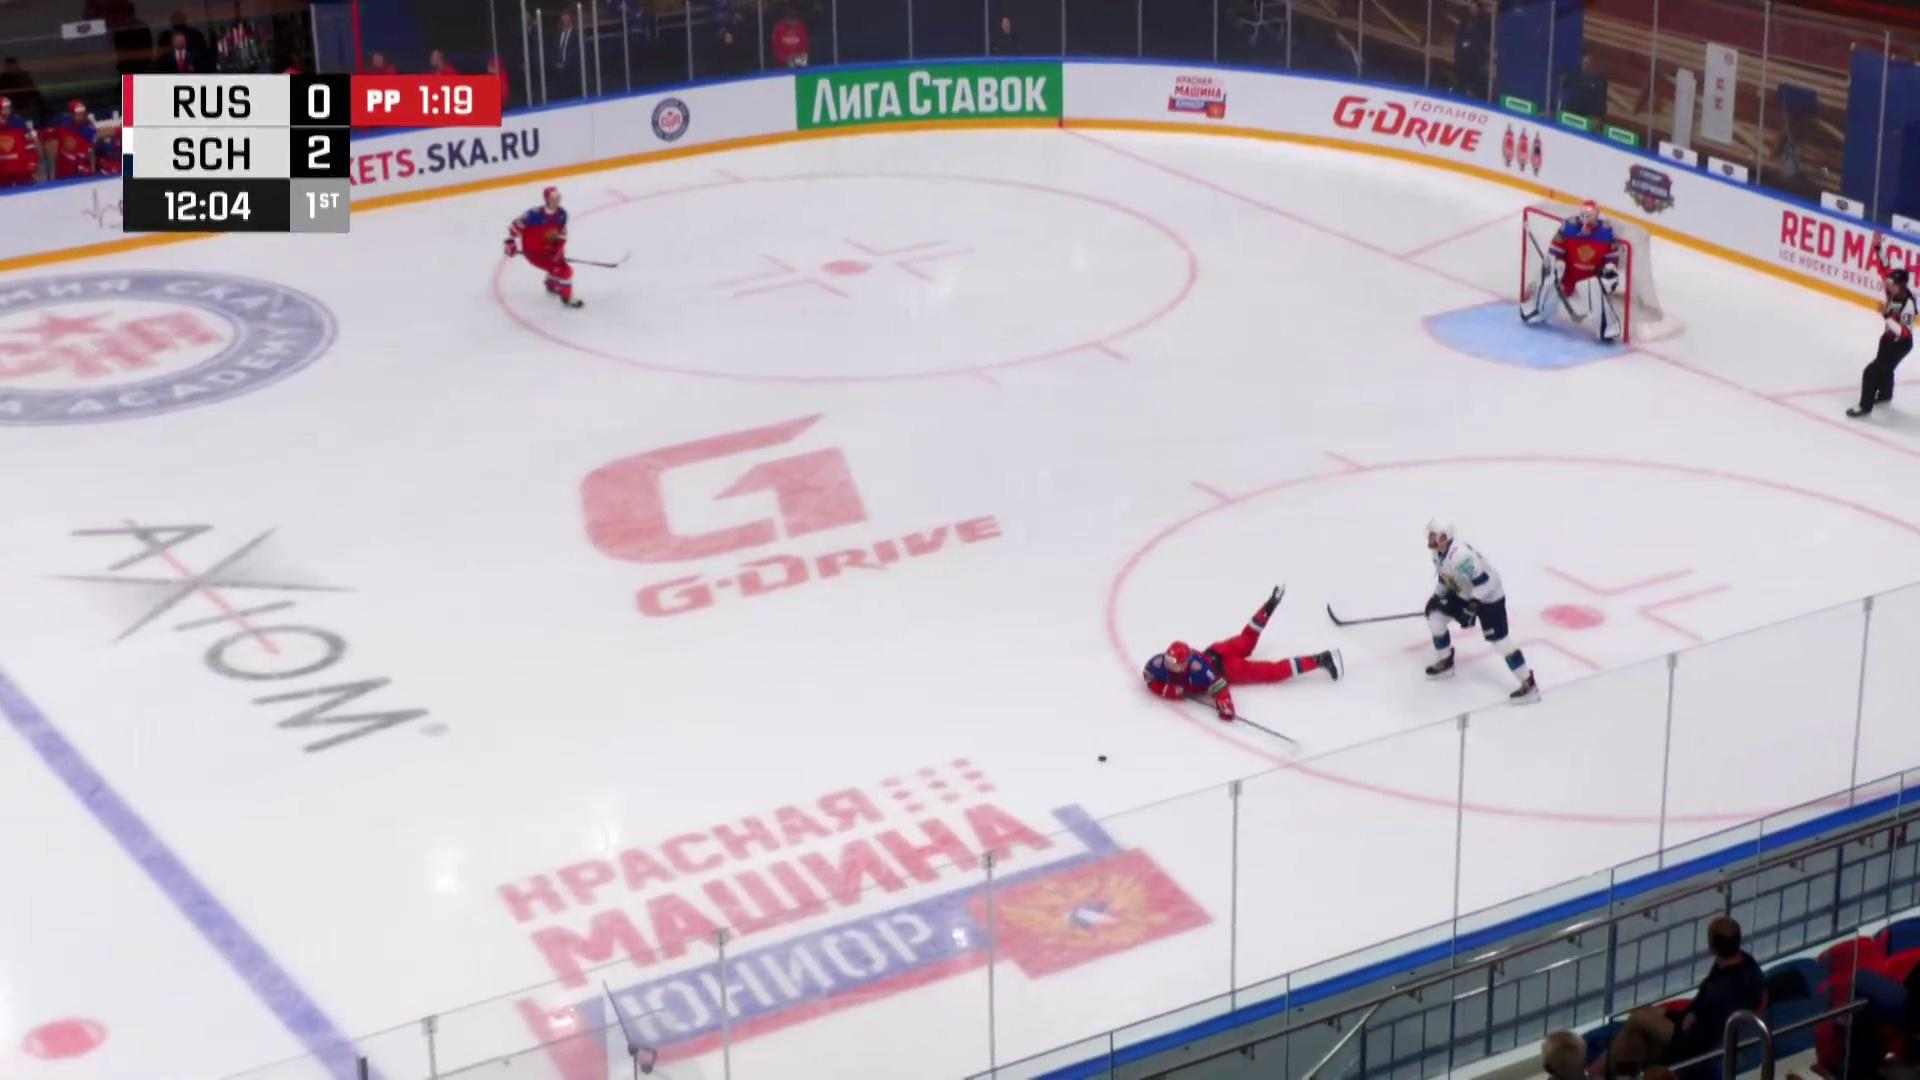ball: (1098, 756, 1109, 762)
